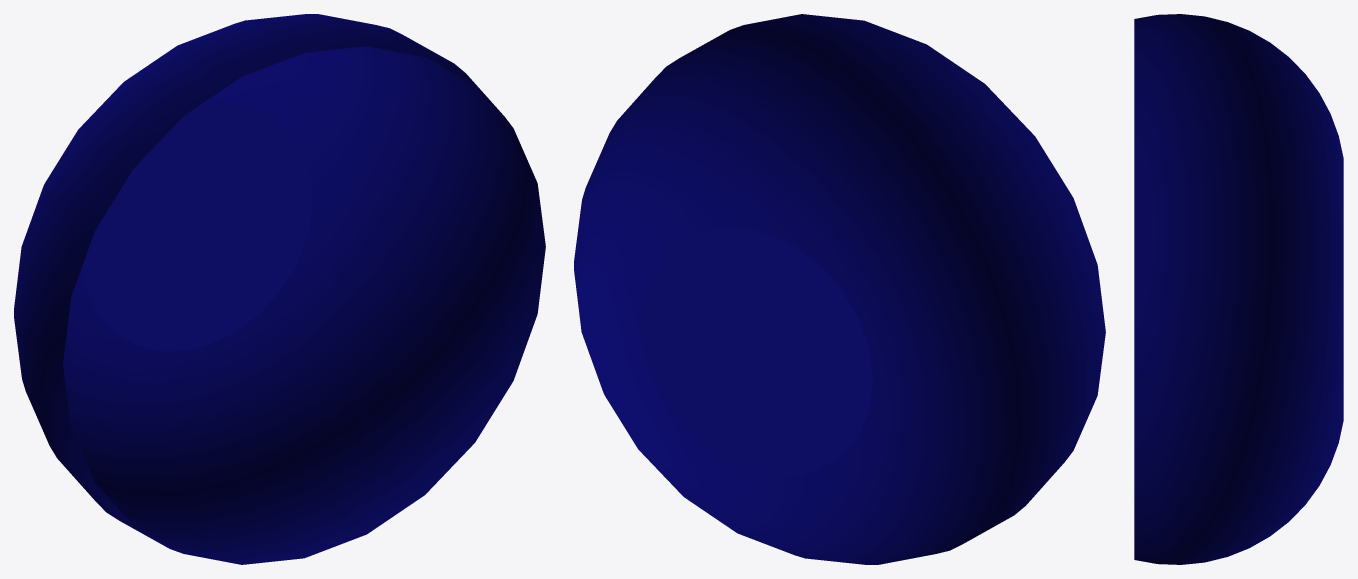
Rendered from model_scale.obj.
3 views of the same model, side by side, from view 1: azimuth 30°, elevation 25°; view 2: azimuth 150°, elevation 25°; view 3: azimuth 270°, elevation 25° (orthographic). The views are drawn at different scales.
Parts seen in each view (by area): view 1: mesh1_mesh1-geometry; view 2: mesh1_mesh1-geometry; view 3: mesh1_mesh1-geometry.
Part boxes in pixels (bbox=[...]): mesh1_mesh1-geometry: bbox=[14, 14, 545, 564]; mesh1_mesh1-geometry: bbox=[574, 14, 1105, 564]; mesh1_mesh1-geometry: bbox=[1134, 14, 1343, 564].
Size of the model in its own units: 0.1484 by 0.1484 by 0.0563.
